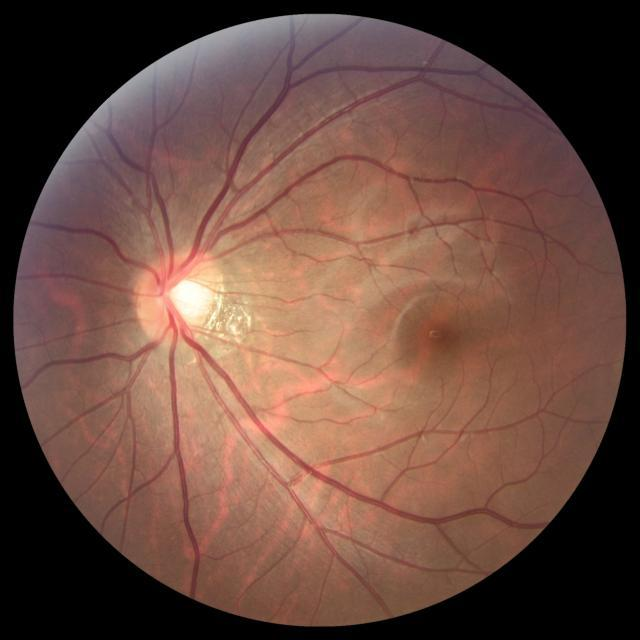OC: (163, 274, 208, 322)
OD: (134, 248, 223, 343)
